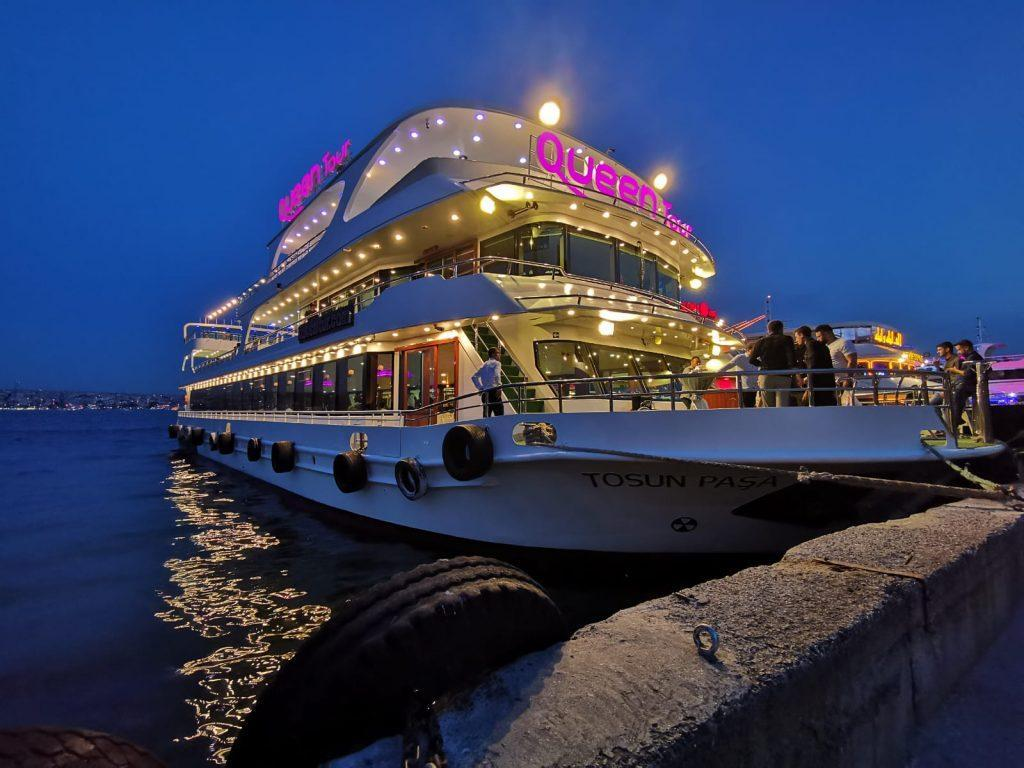PassengerShip: (141, 97, 1023, 553)
